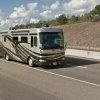Bus: (2, 23, 67, 73)
